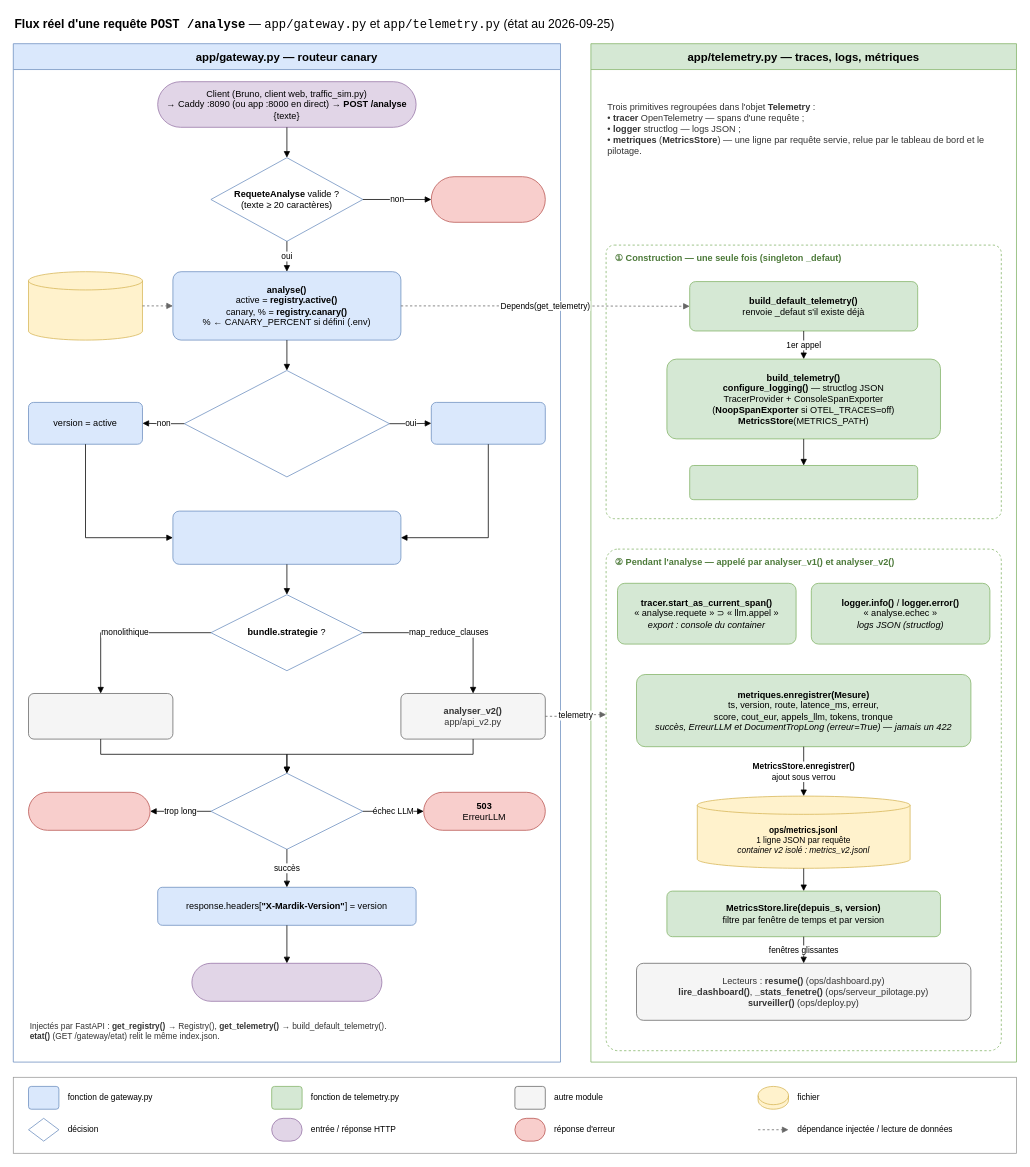
Image size: 1030x1167. Some labels were removed from this diagram. The shapes that lost their labels are listed below. From the top down, each one's centre as x and y in pixels, then its label:
At (488,199): "422 (FastAPI) aucune Mesure".
At (85,305): "ops/registry/ index.json relu à chaque requête".
At (287,423): "choisir_version() canary déployé et tirage < % ? tirage = random.uniform(0, 100)".
At (488,423): "version = canary".
At (803,482): "Telemetry (tracer, logger, metriques)".
At (286,537): "registry.bundle(version) client = LLMClient(bundle) bundle livré, pas models/".
At (100,716): "analyser_v1() app/api_v1.py".
At (89,811): "413 DocumentTropLong".
At (286,811): "issue de l'analyse ?".
At (286,982): "200 + résultat de la version choisie".
